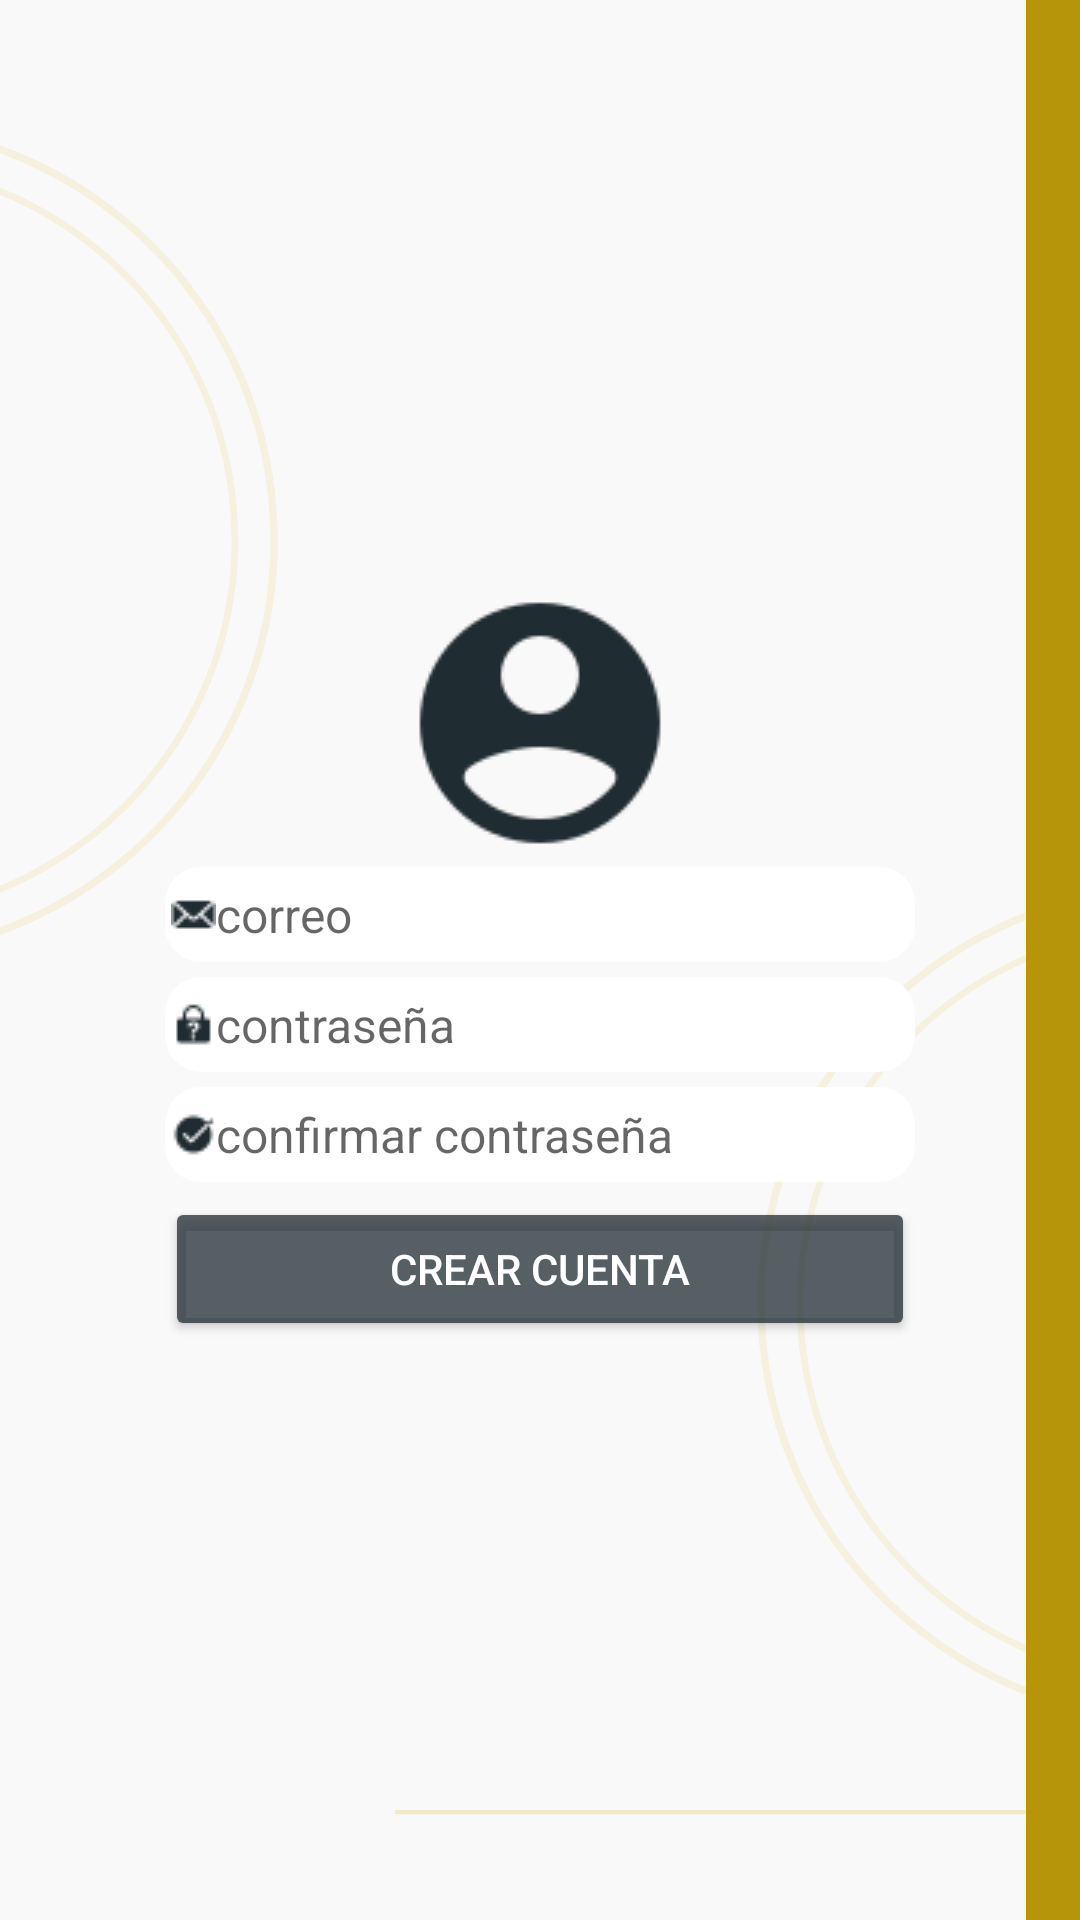

Named icons in this screenshot (1080 x 1920) and their centers, (x=x, y=y):
usuario: (x=540, y=723)
